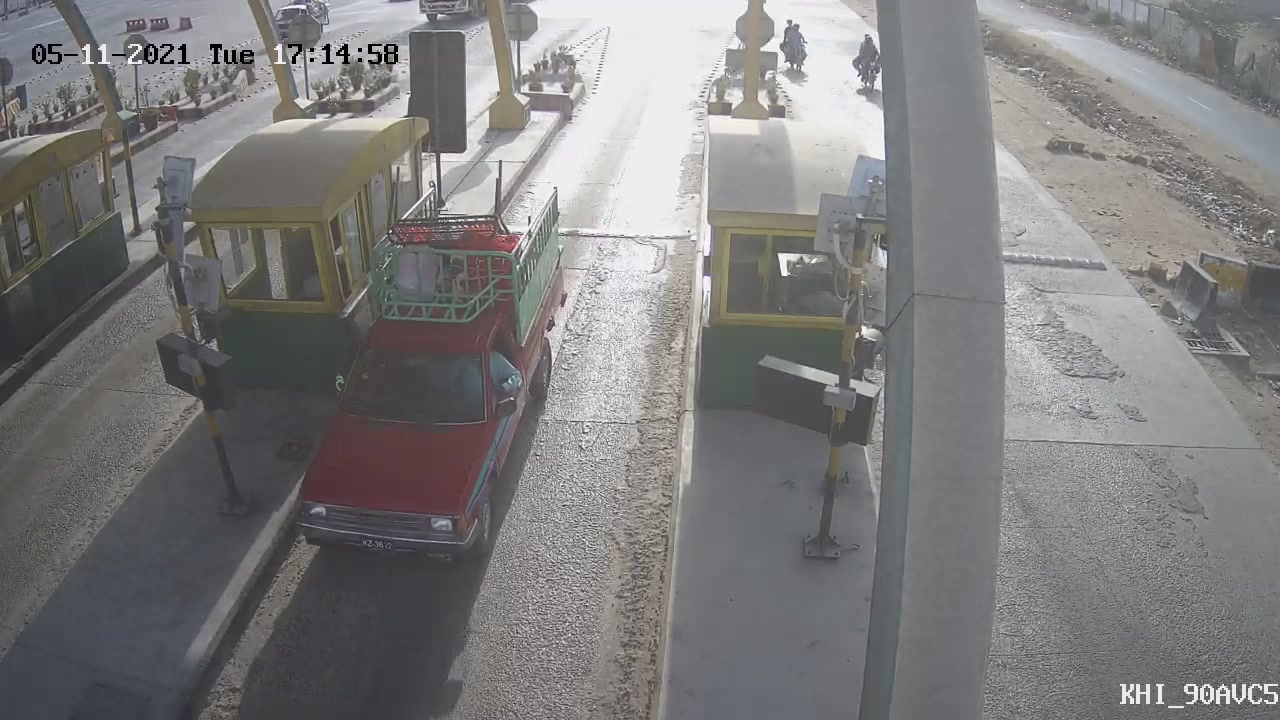F1: (268, 168, 587, 587)
